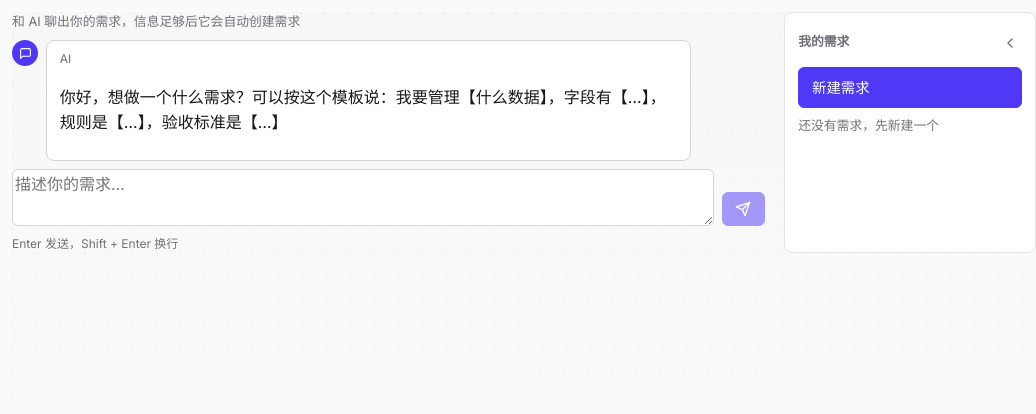
Test: IssueWorkshopView 工坊对话（FR-ISSUE-09） › 发送→AI 追问进消息流
Type "我要做点检" into the text box with test id "workshop-input" at (363, 197), box [12,169,714,226]
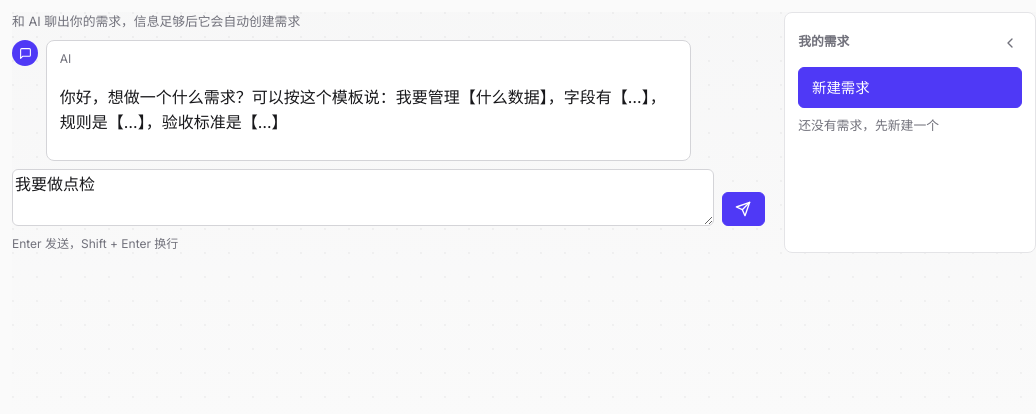
Click the button with test id "workshop-send" at (743, 209), box [722,192,765,226]
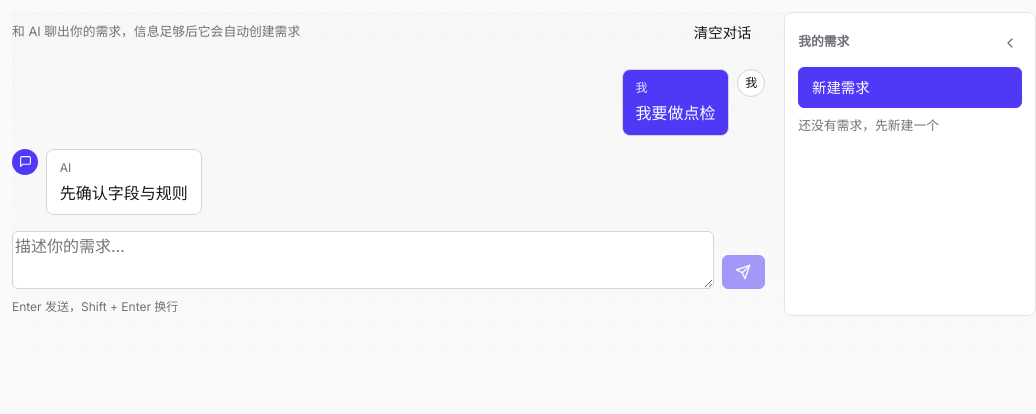
Check: the element with test id "workshop-log" shows "先确认字段", box [60,183,188,203]
